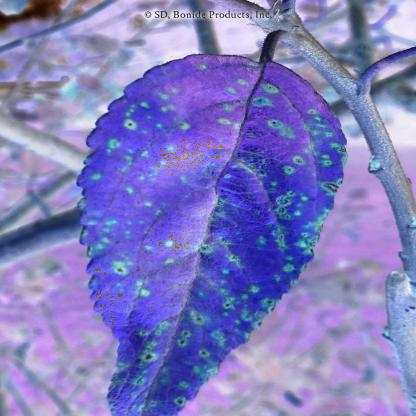apple scab leaf: (76, 44, 339, 414)
